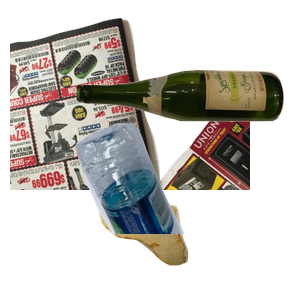glass: (74, 67, 300, 181)
paper: (10, 15, 250, 195)
plastic: (73, 120, 300, 300)
trash: (96, 181, 277, 300)
